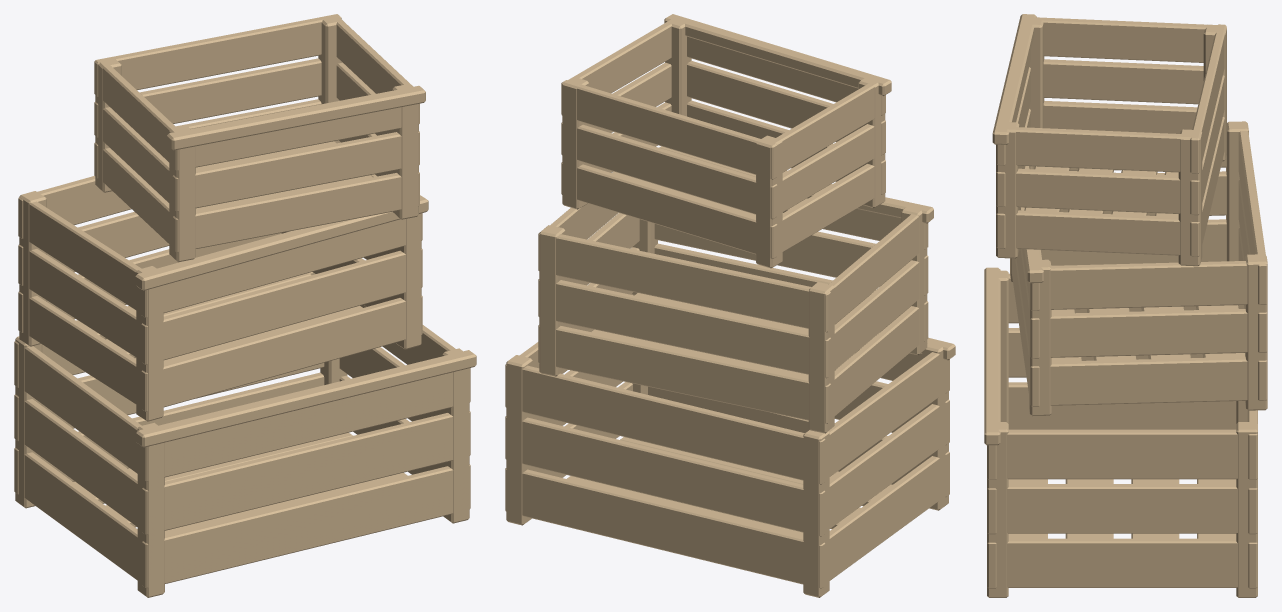
Rendered from garden-centre-and-florist-timber-display-crate-stack-e1491c4e__17724.glb.
The picture shows the model from 3 angles, left to right: view 1: azimuth 30°, elevation 25°; view 2: azimuth 150°, elevation 25°; view 3: azimuth 270°, elevation 25°; orthographic projection. The views are drawn at different scales.
Parts seen in each view (by area): view 1: timber-display-crate-stack; view 2: timber-display-crate-stack; view 3: timber-display-crate-stack.
Boxes of the visible parts, bbox=[...] form: timber-display-crate-stack: bbox=[14, 14, 476, 597]; timber-display-crate-stack: bbox=[505, 14, 955, 597]; timber-display-crate-stack: bbox=[984, 14, 1267, 597].
Size of the model in its own units: 0.72 by 0.9 by 0.5188.
